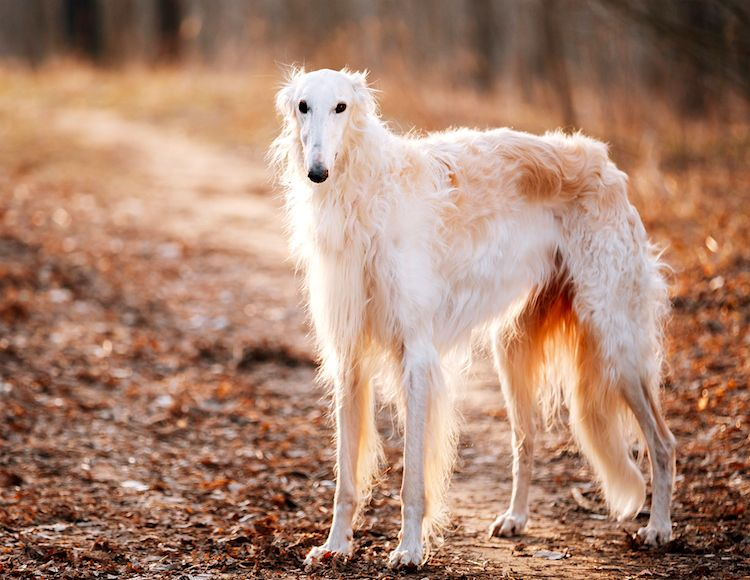borzoi: (237, 40, 715, 575)
